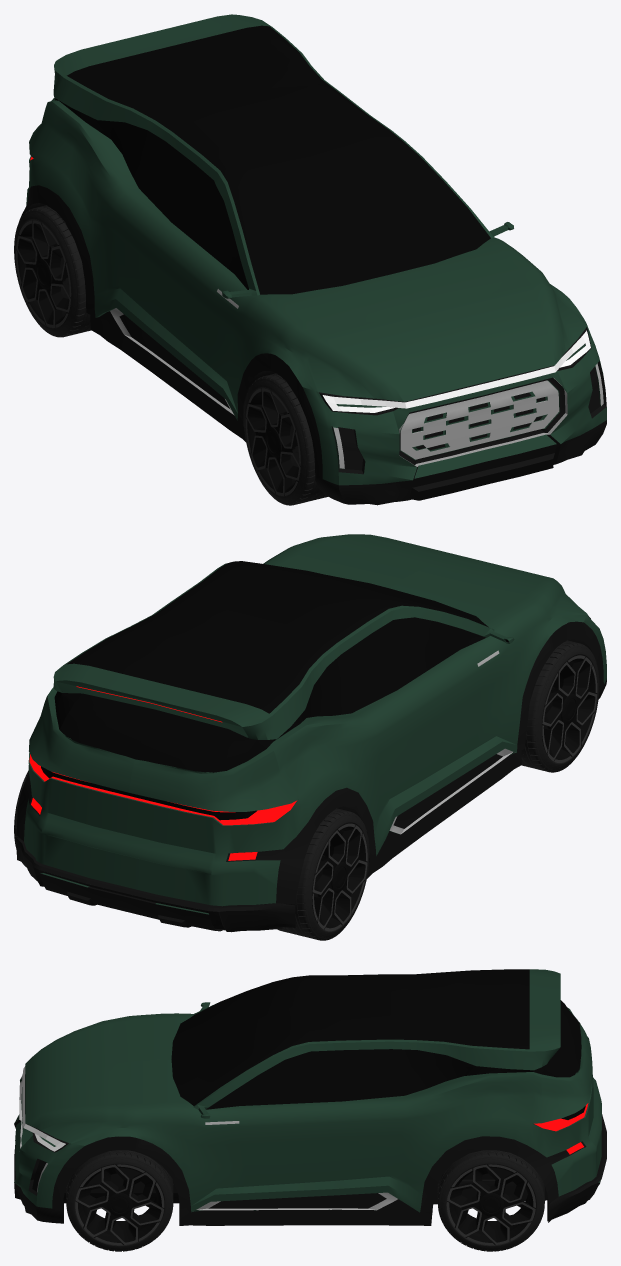
3 renders of one model, top to bottom at view 1: azimuth 30°, elevation 25°; view 2: azimuth 150°, elevation 25°; view 3: azimuth 270°, elevation 25°, orthographic. The views are drawn at different scales.
Parts seen in each view (by area): view 1: Object_20, Object_21, Object_23, Object_24, Wheel_RR, Wheel_FR, Object_25; view 2: Object_20, Object_21, Object_23, Wheel_RR, Wheel_FR, Object_22, Object_24; view 3: Object_20, Object_21, Object_23, Wheel_FL, Wheel_RL, Object_24, Object_25, Object_22.
Part boxes in pixels (x1,y1,x2,y2): Object_20: (26,14,606,485); Object_21: (55,25,553,500); Object_23: (19,185,606,505); Object_24: (110,289,603,468); Wheel_RR: (14,205,91,337); Wheel_FR: (243,373,327,505); Object_25: (322,330,590,412); Object_20: (24,534,606,914); Object_21: (41,561,508,820); Object_23: (16,617,606,932); Wheel_RR: (277,808,369,940); Wheel_FR: (521,640,599,772); Object_22: (29,686,297,860); Object_24: (389,650,515,834); Object_20: (14,969,601,1212); Object_21: (14,969,585,1197); Object_23: (14,1074,606,1225); Wheel_FL: (66,1150,173,1251); Wheel_RL: (437,1150,544,1251); Object_24: (19,1075,397,1210); Object_25: (22,1066,65,1151); Object_22: (534,1103,588,1154).
Size of the model in its own units: 2.17 by 1.65 by 4.62.
